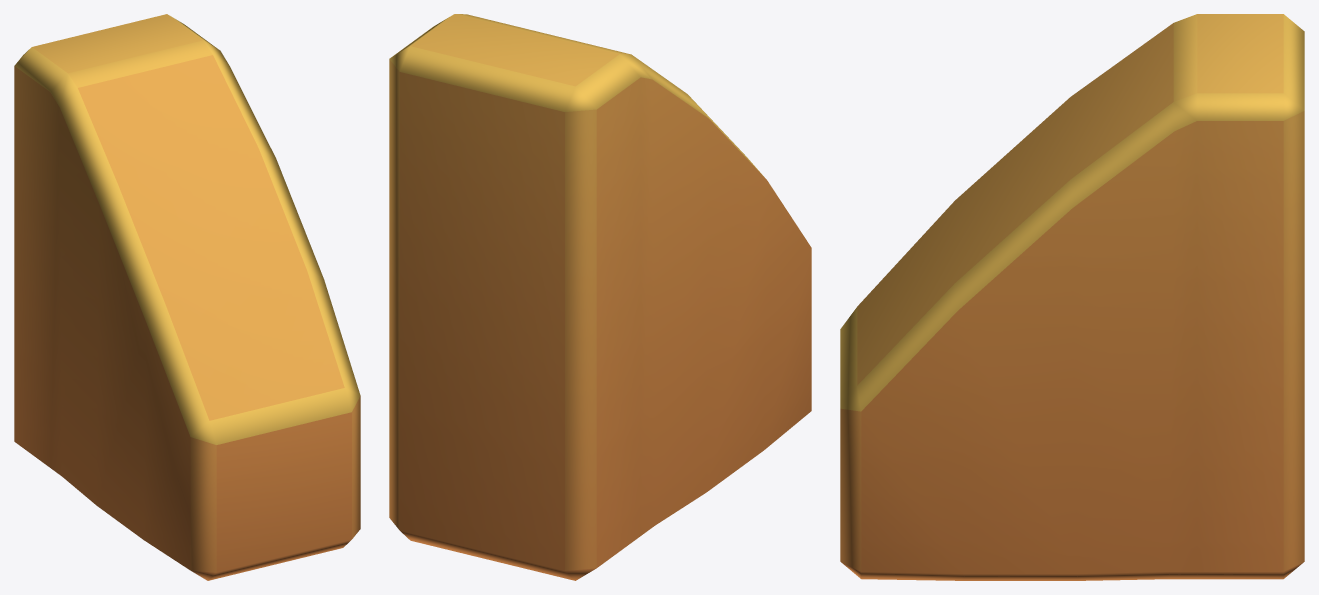
Rendered from stair_sidewall_alt.fbx.
3 views of the same model, side by side, from view 1: azimuth 30°, elevation 25°; view 2: azimuth 150°, elevation 25°; view 3: azimuth 270°, elevation 25° (orthographic). The views are drawn at different scales.
Parts seen in each view (by area): view 1: stair_sidewall_alt; view 2: stair_sidewall_alt; view 3: stair_sidewall_alt.
Boxes of the visible parts, x1,y1,x2,y2 form: stair_sidewall_alt: [14, 14, 360, 580]; stair_sidewall_alt: [389, 14, 811, 580]; stair_sidewall_alt: [840, 14, 1304, 580].
Bounding box in the file's own units: 55.52 × 121 × 105.
